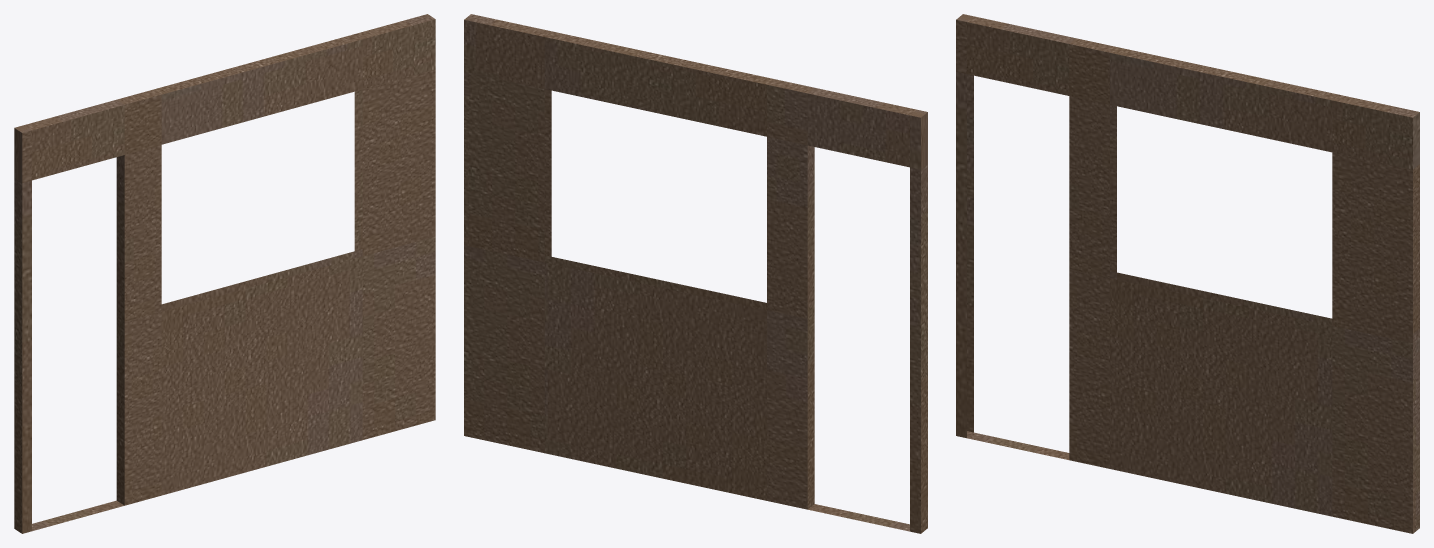
File: paredes audio2.fbx
The picture shows the model from 3 angles, left to right: view 1: azimuth 30°, elevation 25°; view 2: azimuth 150°, elevation 25°; view 3: azimuth 330°, elevation 25°; orthographic projection. The views are drawn at different scales.
Parts seen in each view (by area): view 1: parede audi2; view 2: parede audi2; view 3: parede audi2.
Boxes of the visible parts, x1,y1,x2,y2 form: parede audi2: (14, 14, 435, 533); parede audi2: (464, 14, 927, 533); parede audi2: (956, 14, 1419, 533).
Bounding box in the file's own units: 2.68 × 2.4 × 0.2241.
Materials: 1 (1 with a texture image).
